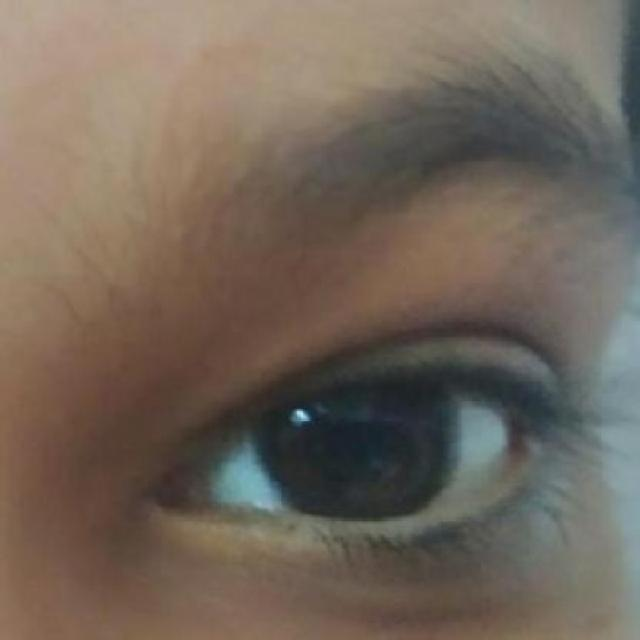awake: (164, 332, 536, 533)
